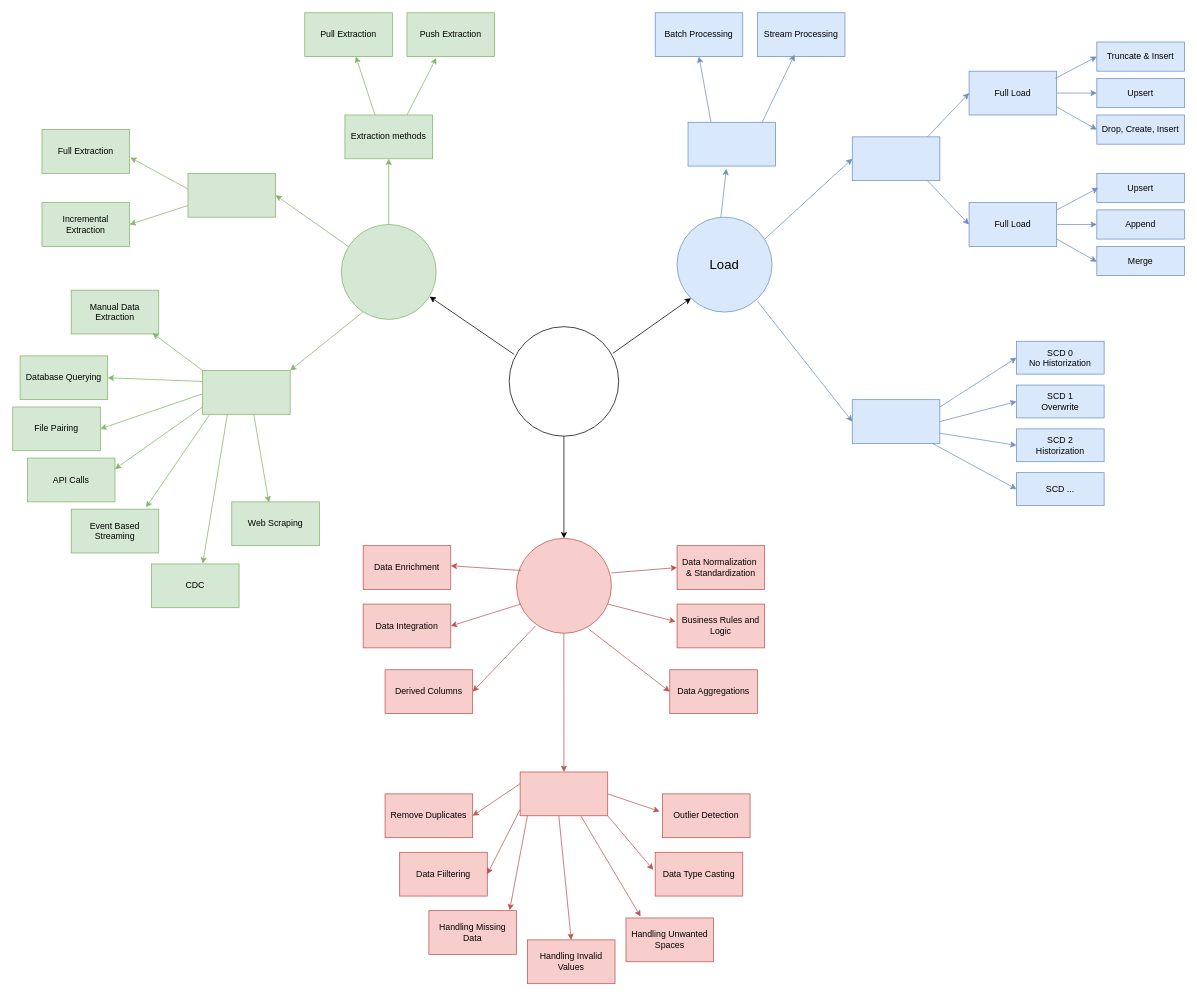
Some shapes in this 1197 by 996 pixel diagram are drawn without their labels. Each missing label, with the centre of its shape:
Data Cleansing: point (563, 793)
ETL: point (563, 381)
Extract Techniques: point (246, 392)
Extract Types: point (231, 195)
Extraction: point (388, 271)
Load Methods: point (896, 158)
Processing Types: point (731, 144)
Slowly Changing Dimensions (SCD): point (896, 421)
Transformation: point (563, 585)
